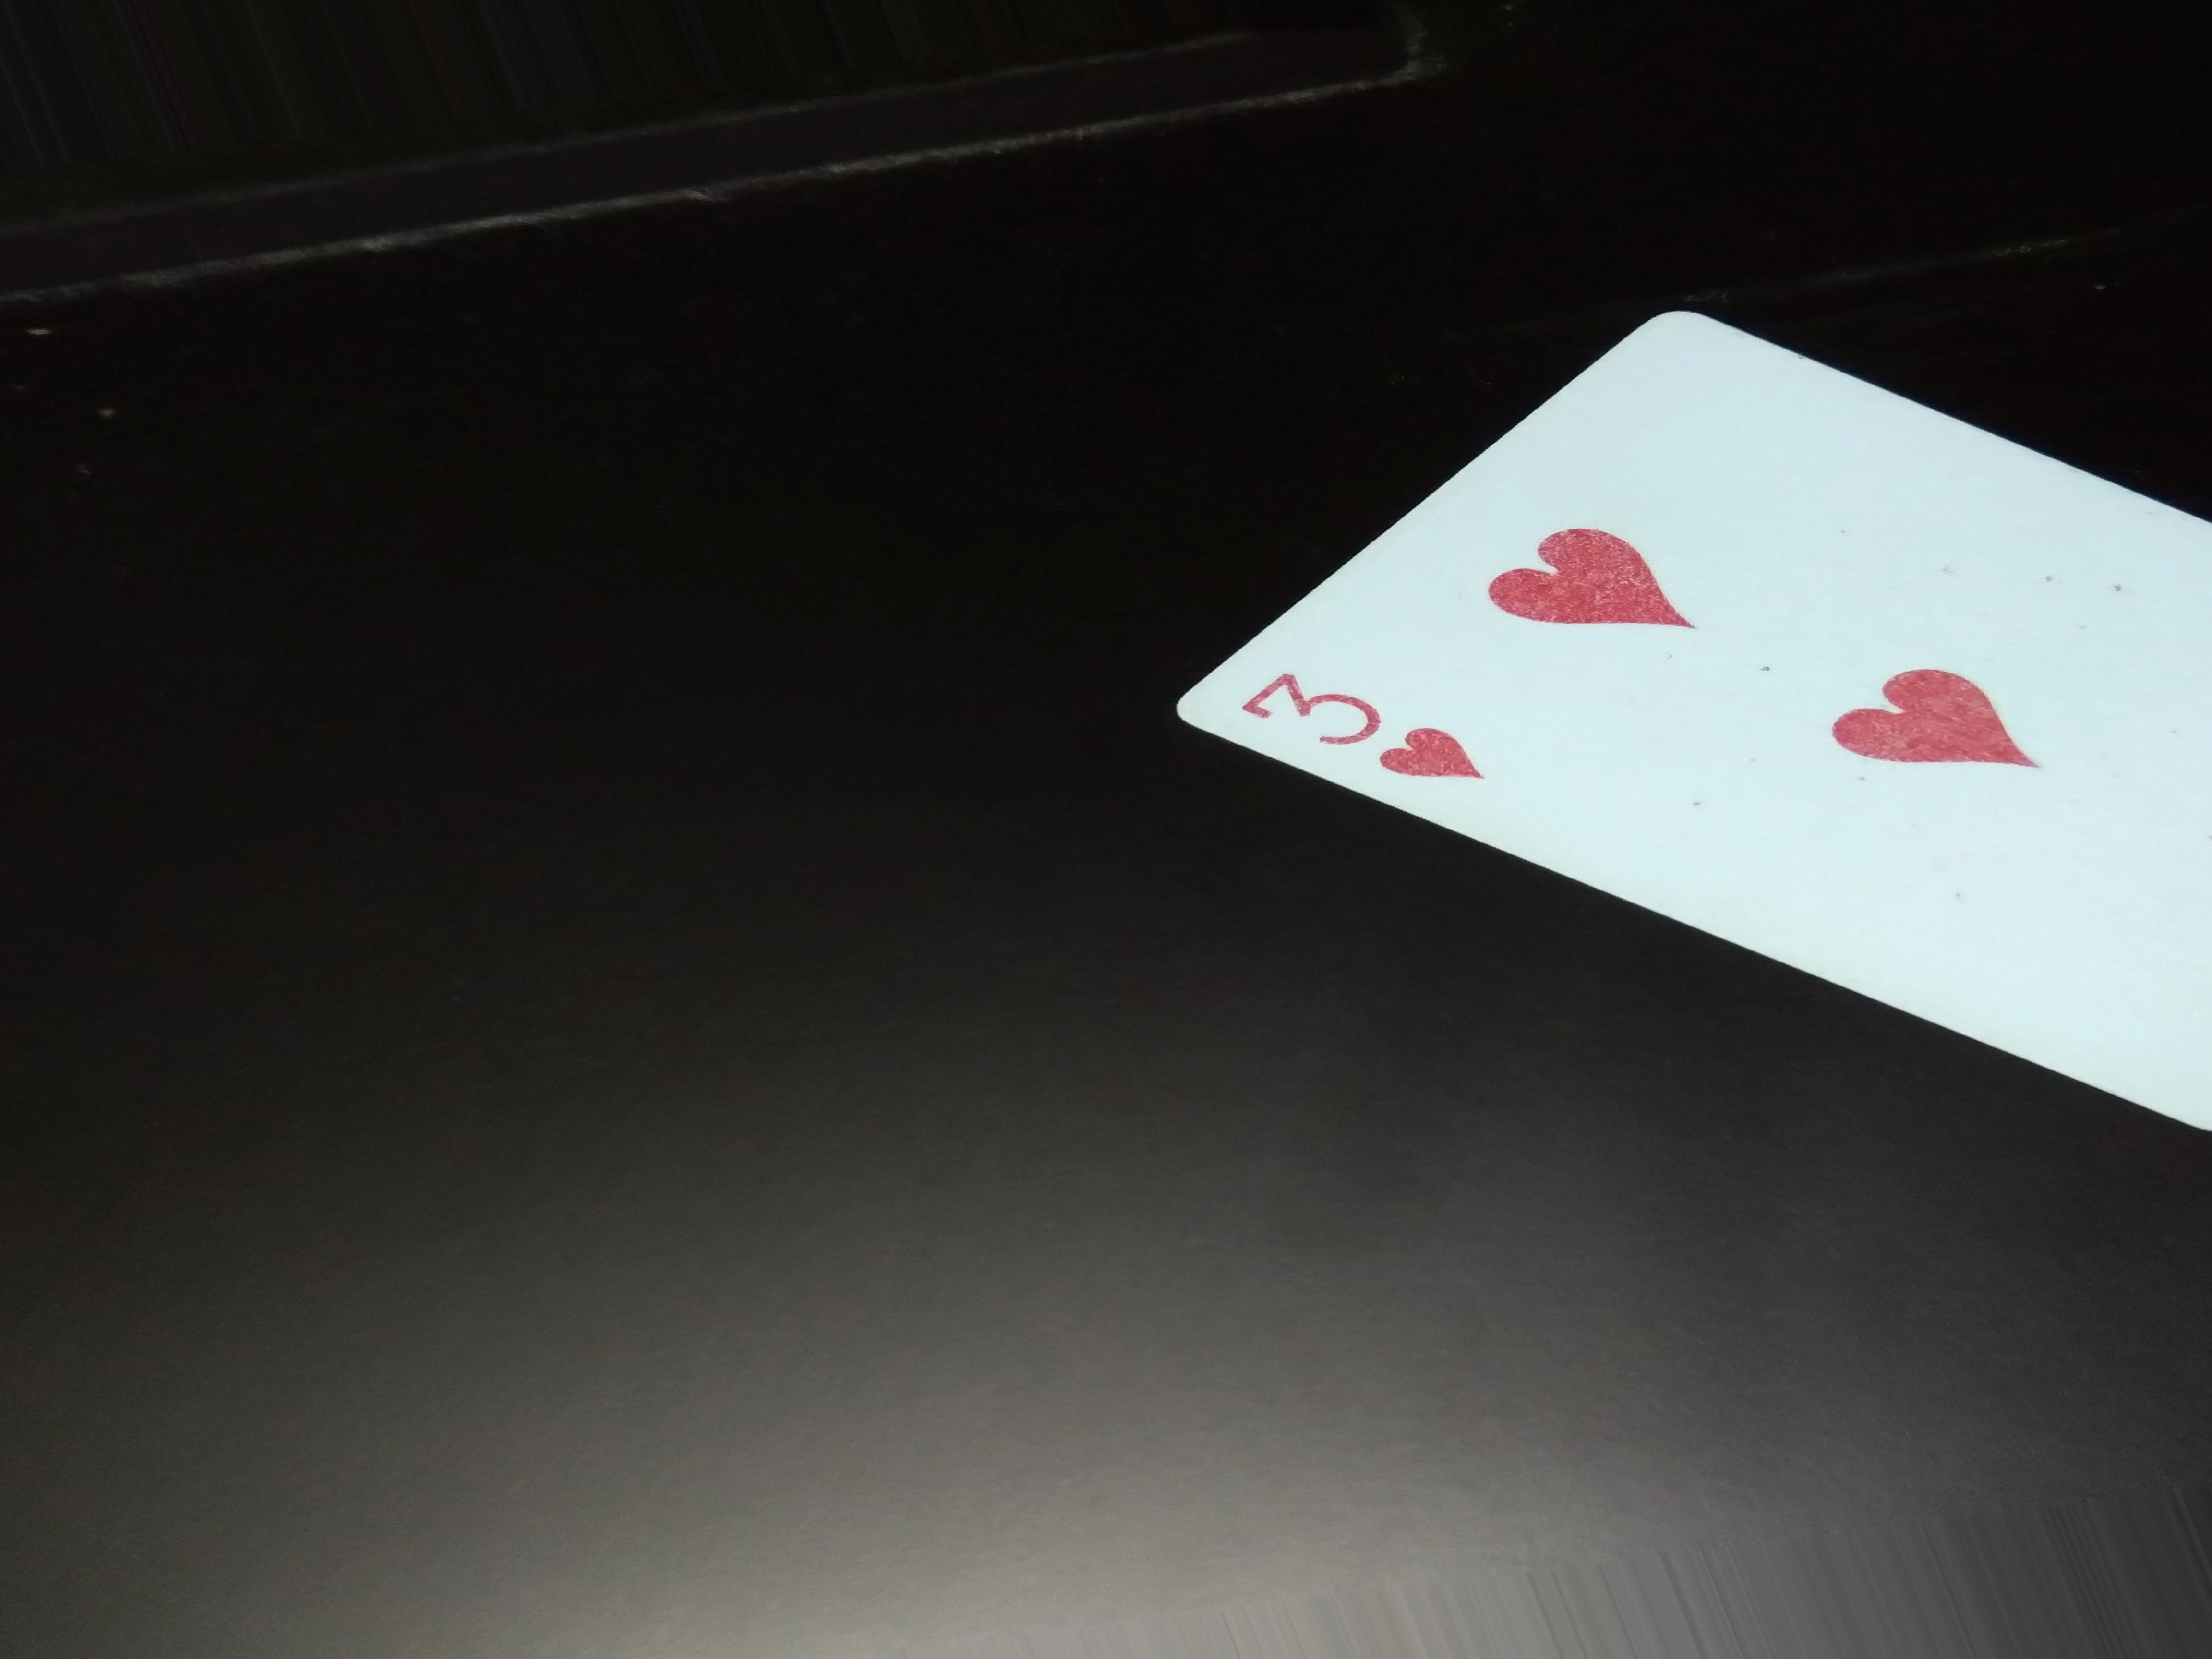3H: (1209, 660, 1489, 789)
